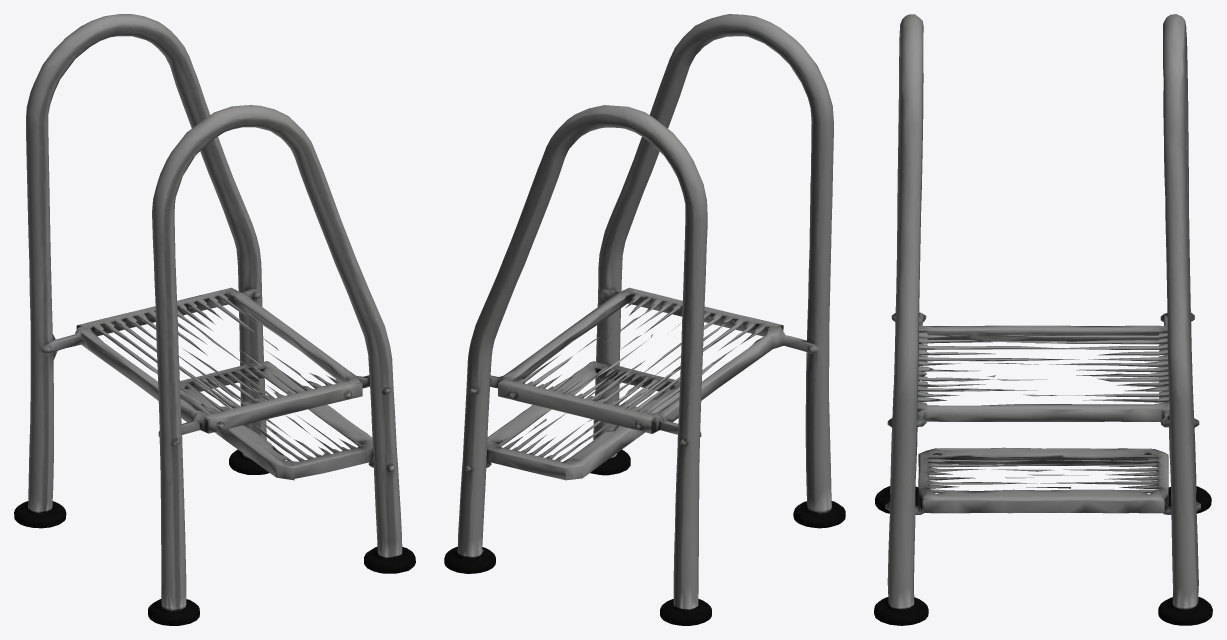
Rendered from gen-ladder.glb.
3 views of the same model, side by side, from view 1: azimuth 30°, elevation 25°; view 2: azimuth 150°, elevation 25°; view 3: azimuth 270°, elevation 25° (orthographic). The views are drawn at different scales.
Parts seen in each view (by area): view 1: tripo_node_7b0d52cb-4635-40d6-b85f-ff1225a51d45; view 2: tripo_node_7b0d52cb-4635-40d6-b85f-ff1225a51d45; view 3: tripo_node_7b0d52cb-4635-40d6-b85f-ff1225a51d45.
Boxes of the visible parts, x1,y1,x2,y2 form: tripo_node_7b0d52cb-4635-40d6-b85f-ff1225a51d45: [14, 14, 415, 625]; tripo_node_7b0d52cb-4635-40d6-b85f-ff1225a51d45: [444, 14, 845, 625]; tripo_node_7b0d52cb-4635-40d6-b85f-ff1225a51d45: [874, 14, 1212, 625].
Size of the model in its own units: 0.557 by 1 by 0.5957.
1 material, 1 textured.
